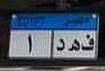1: (26, 32, 35, 54)
daal: (55, 36, 65, 53)
faa: (81, 33, 95, 54)
haa: (67, 38, 81, 54)
